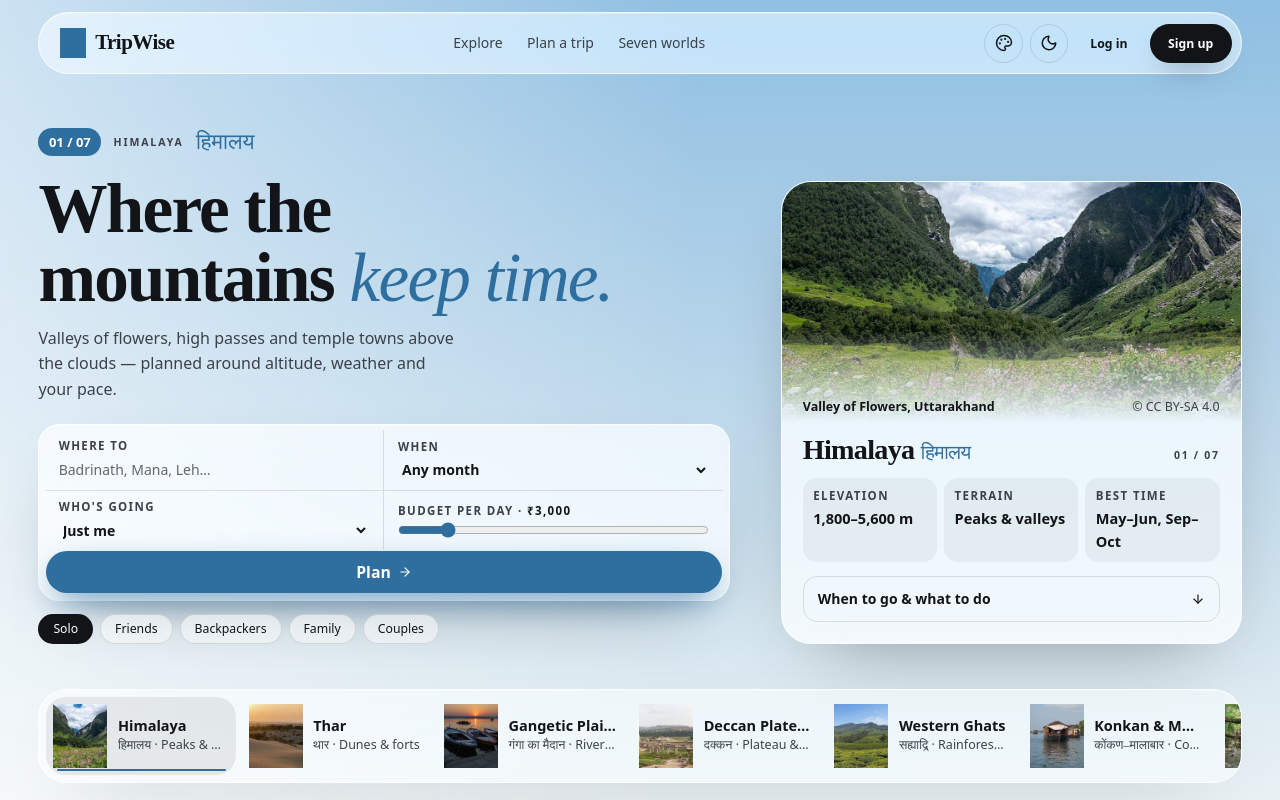
Scenario: LandingPage › switches the whole page from the region bar
Click the button "Thar थार · Dunes & forts". click: [337, 736]
box: x1=242 y1=696 x2=432 y2=774
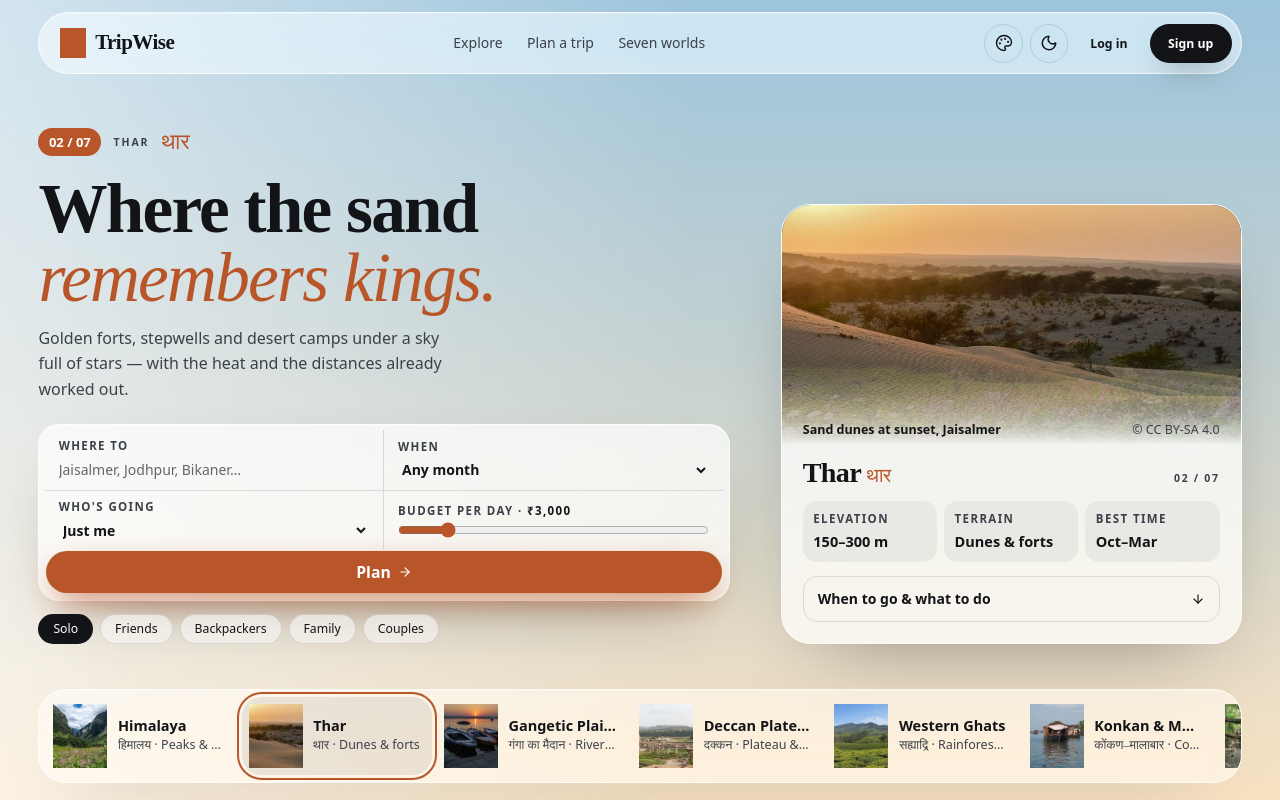
expect the heading "Where the sand remembers kings." is shown: met, box x1=38 y1=170 x2=496 y2=316
expect the text "150–300 m" is shown: met, box x1=813 y1=531 x2=888 y2=551
